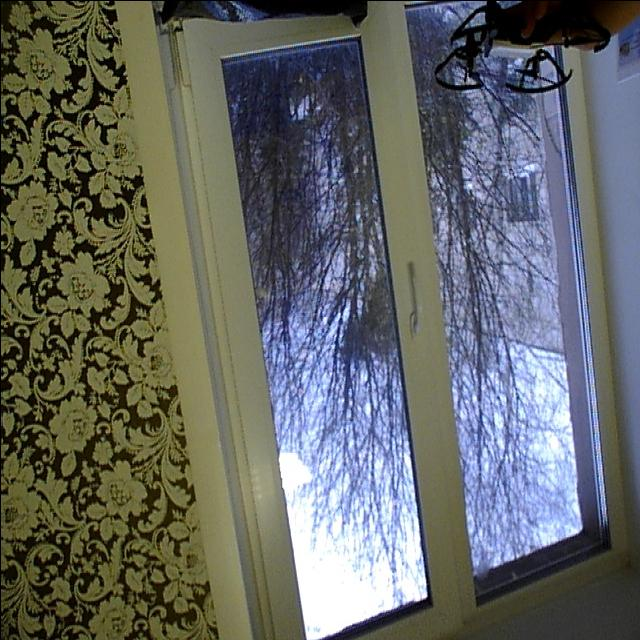drone: (427, 0, 612, 94)
